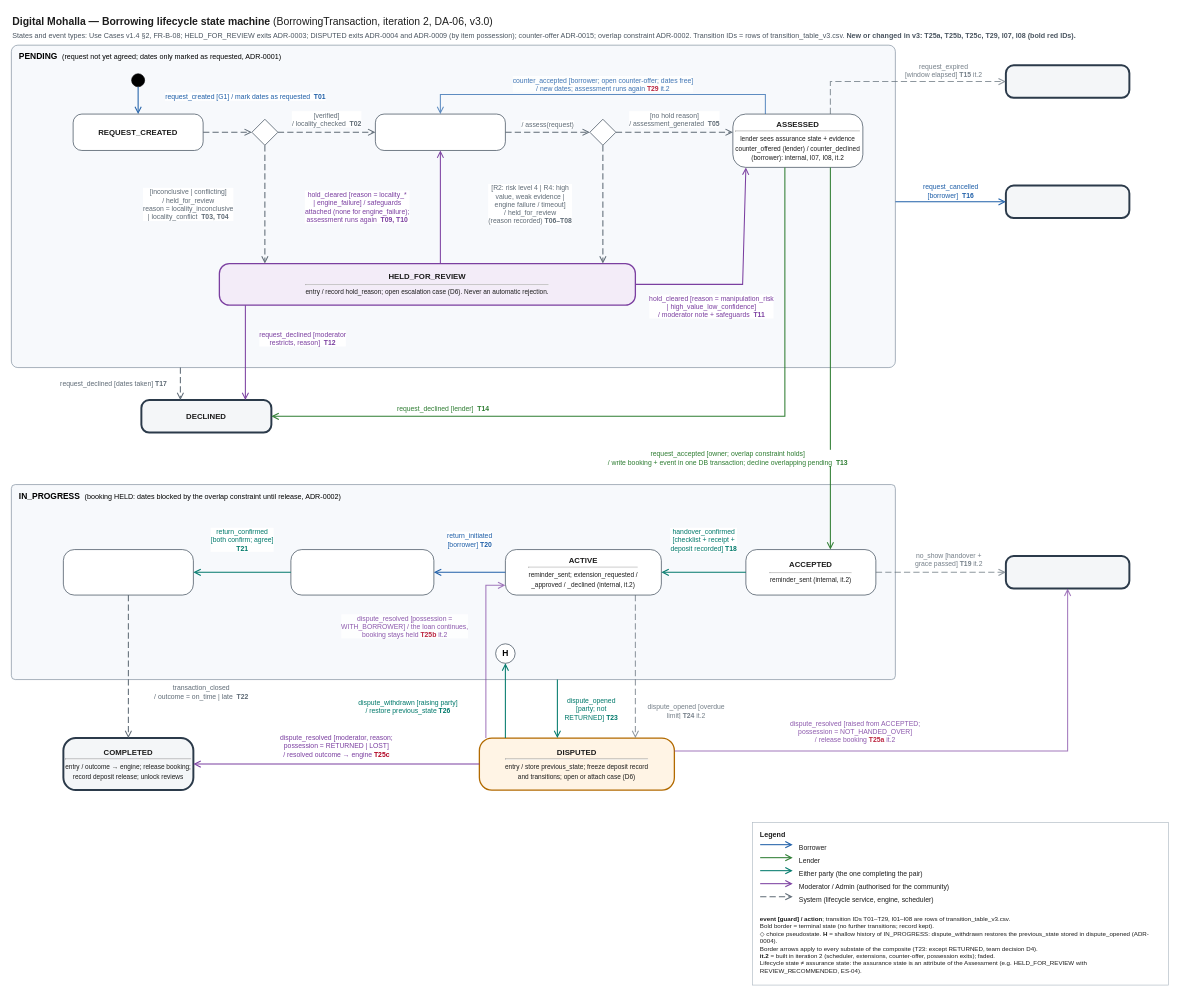
The diagram is 1180 pixels wide and 996 high, and some of its shapes have lost their labels. The shapes that lost their labels are listed below. From the top down, each one's centre as x and y in pixels, then its label:
the point at 1067,81: EXPIRED
the point at 440,131: LOCALITY_CHECKED
the point at 1067,201: CANCELLED
the point at 128,572: RETURNED
the point at 362,572: RETURN_INITIATED reminder_sent (internal, it.2)
the point at 1067,572: NO_SHOW
